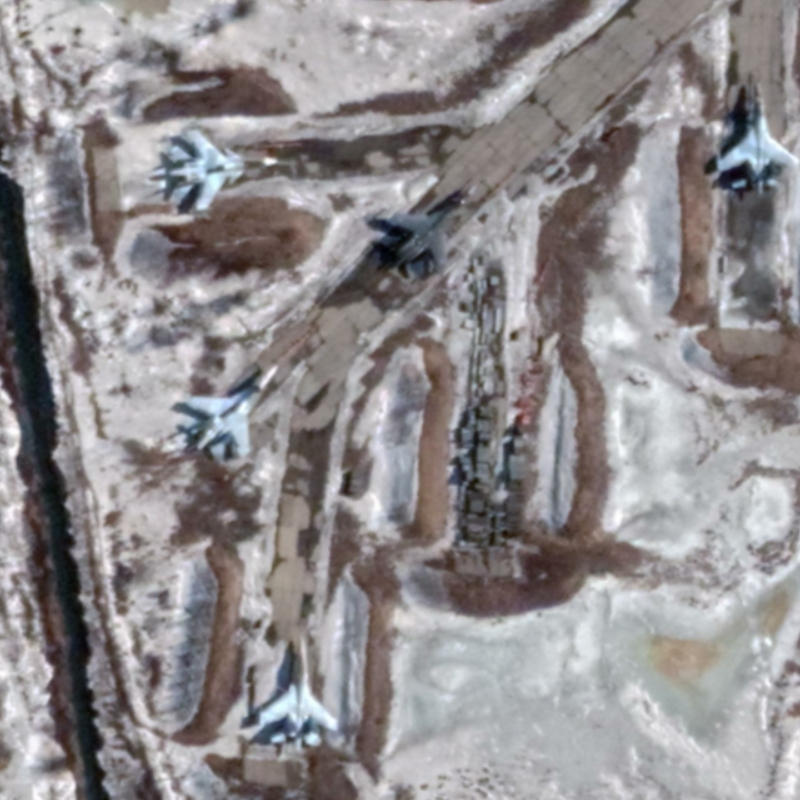A1: (253, 632, 340, 756), (712, 79, 799, 199), (182, 360, 281, 465), (369, 182, 477, 275)
A19: (166, 127, 280, 212)
